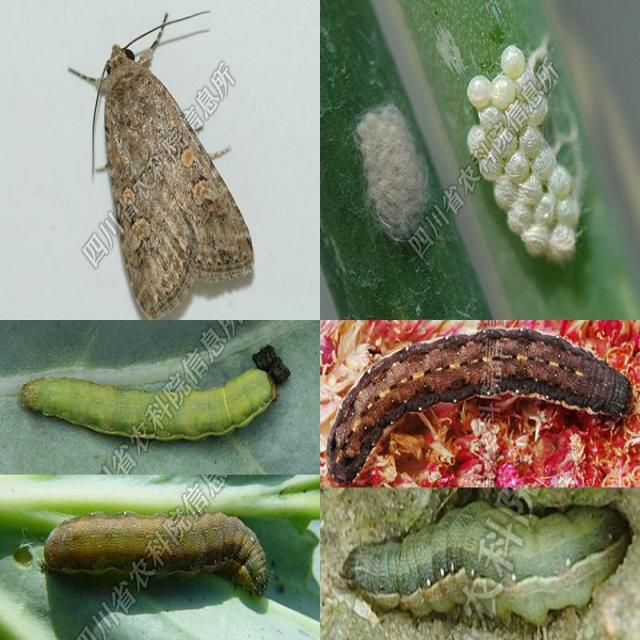armyworm: (333, 330, 633, 493), (88, 19, 257, 307), (327, 500, 640, 636), (28, 350, 305, 455), (40, 496, 294, 606), (468, 44, 585, 259)
